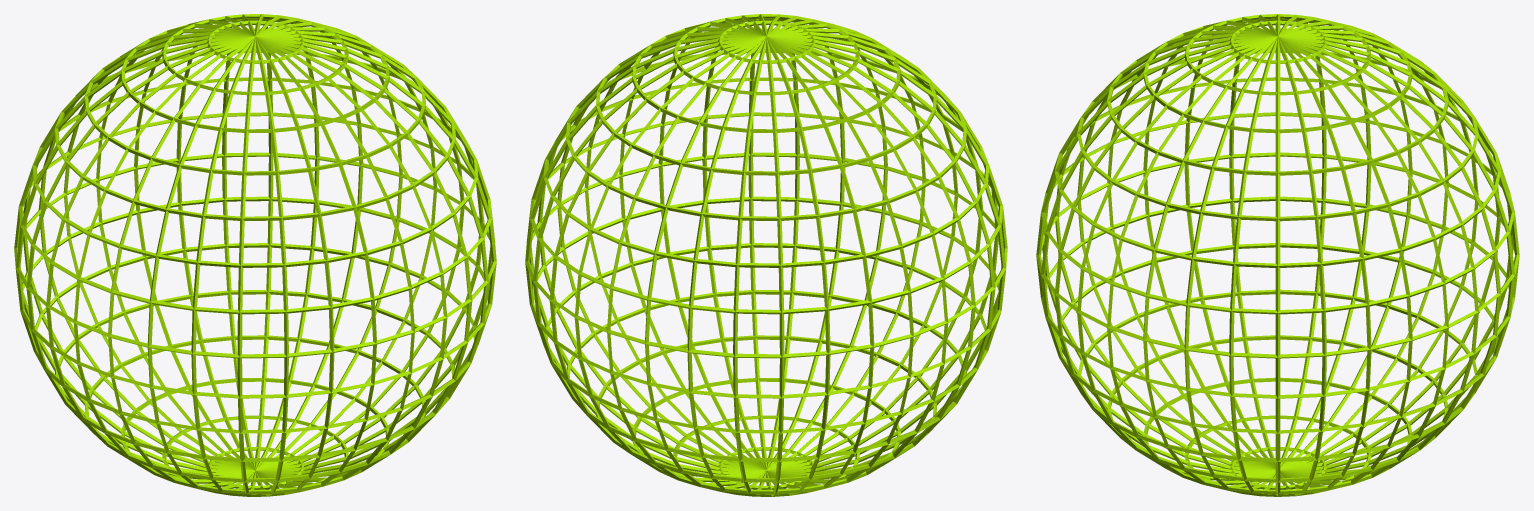
The model's file is metalic-sphere.glb.
3 views of the same model, side by side, from view 1: azimuth 30°, elevation 25°; view 2: azimuth 150°, elevation 25°; view 3: azimuth 270°, elevation 25° (orthographic).
Parts seen in each view (by area): view 1: Sphere; view 2: Sphere; view 3: Sphere.
Part boxes in pixels (x1,y1,x2,y2): Sphere: (14,14,496,496); Sphere: (525,14,1007,496); Sphere: (1036,14,1519,496).
Size of the model in its own units: 14.72 by 14.72 by 14.72.
